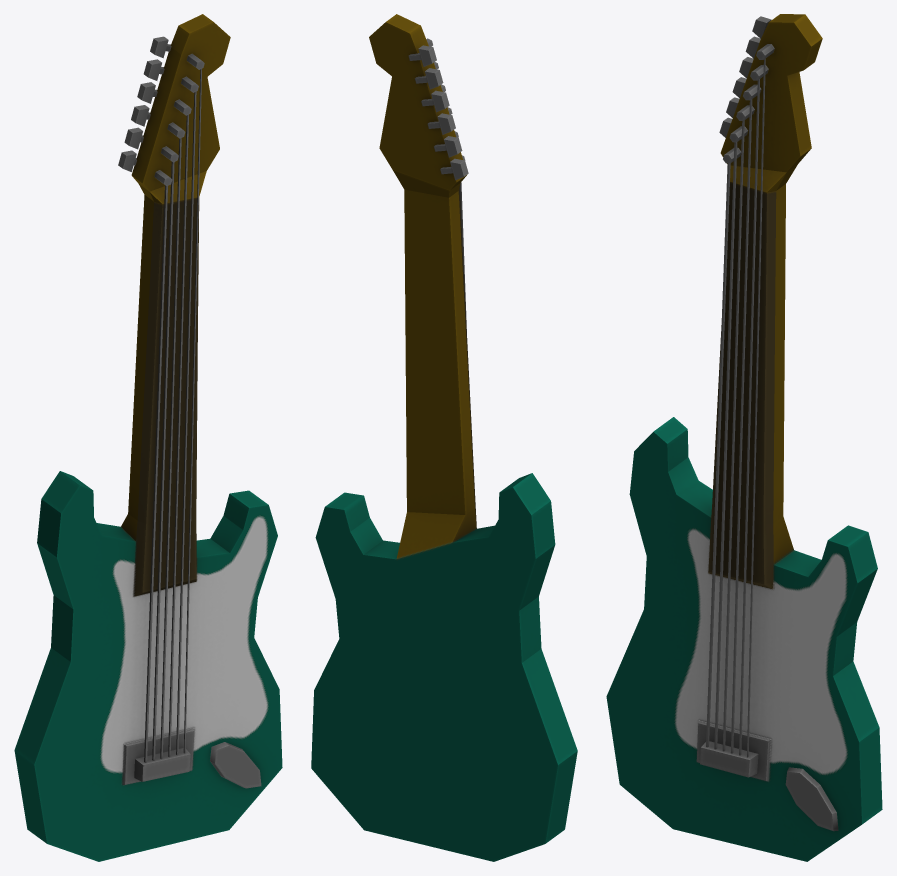
Rendered from guitar.glb.
3 views of the same model, side by side, from view 1: azimuth 30°, elevation 25°; view 2: azimuth 150°, elevation 25°; view 3: azimuth 330°, elevation 25° (orthographic). The views are drawn at different scales.
Visible parts, largest first — view 1: ElectricGuitar_mesh; view 2: ElectricGuitar_mesh; view 3: ElectricGuitar_mesh.
Boxes of the visible parts, x1,y1,x2,y2 form: ElectricGuitar_mesh: [14, 14, 282, 861]; ElectricGuitar_mesh: [311, 14, 577, 861]; ElectricGuitar_mesh: [606, 14, 882, 861].
Size of the model in its own units: 7.24 by 22.6 by 1.44.
Materials: 1 (1 with a texture image).
